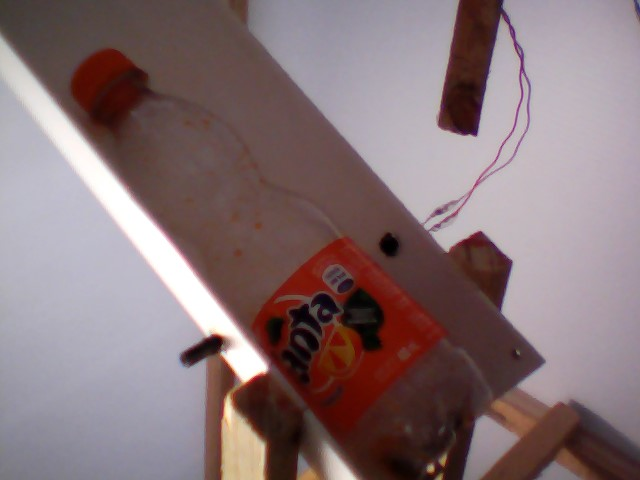plastico: (64, 47, 500, 480)
